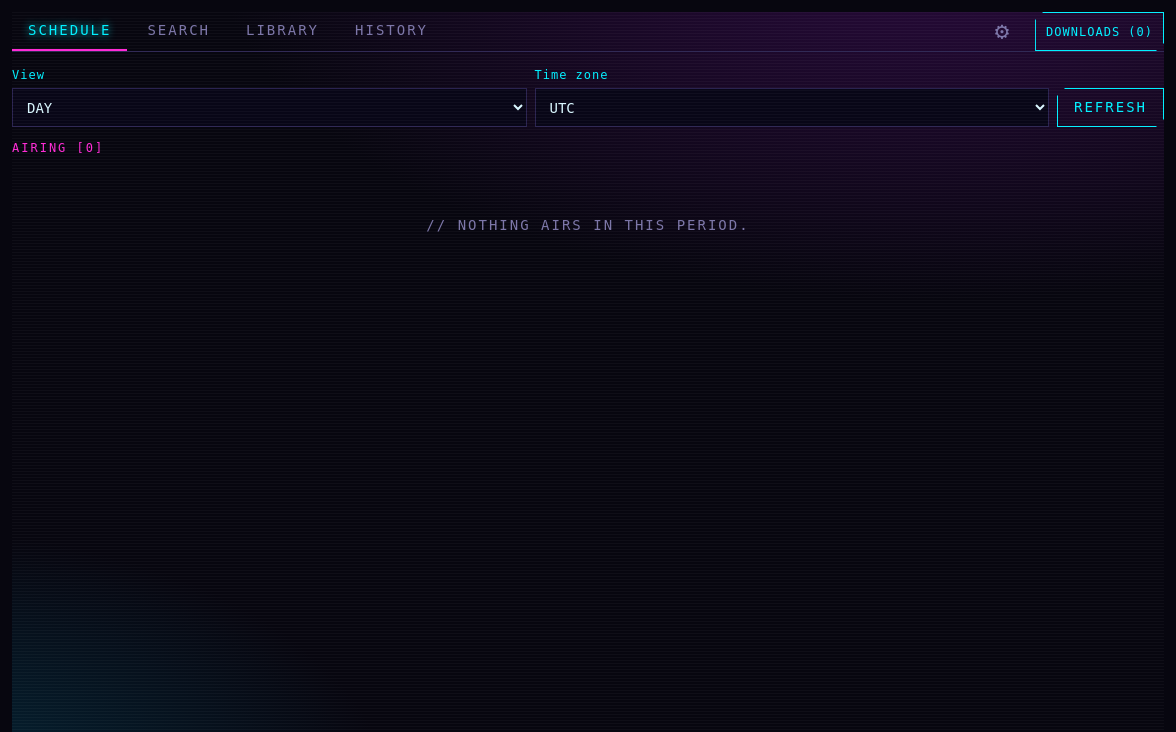
Scenario: AnimePanel › switches between the schedule and the search
Click the button "SEARCH" at (179, 32), box top-left (131, 12), bottom-right (226, 51)
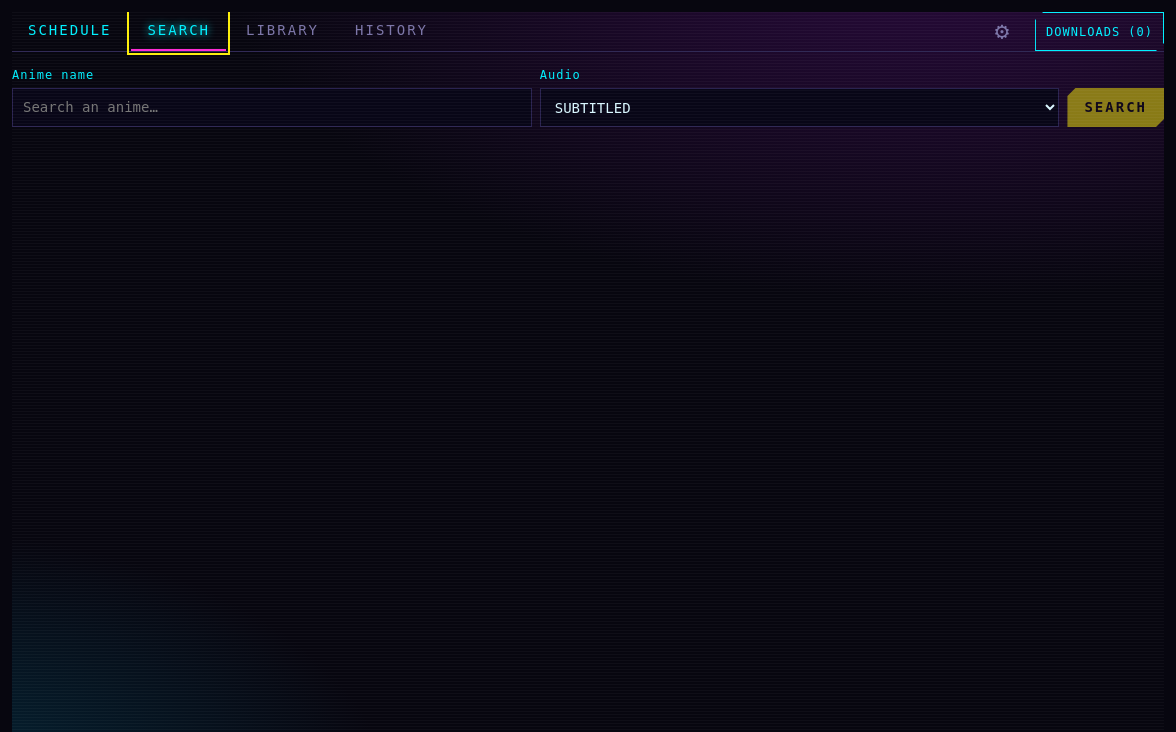
Expected: the field labelled "Anime name" is shown, top-left (12, 88), bottom-right (532, 127)
Click the button "SCHEDULE" at (70, 32), box top-left (12, 12), bottom-right (127, 51)
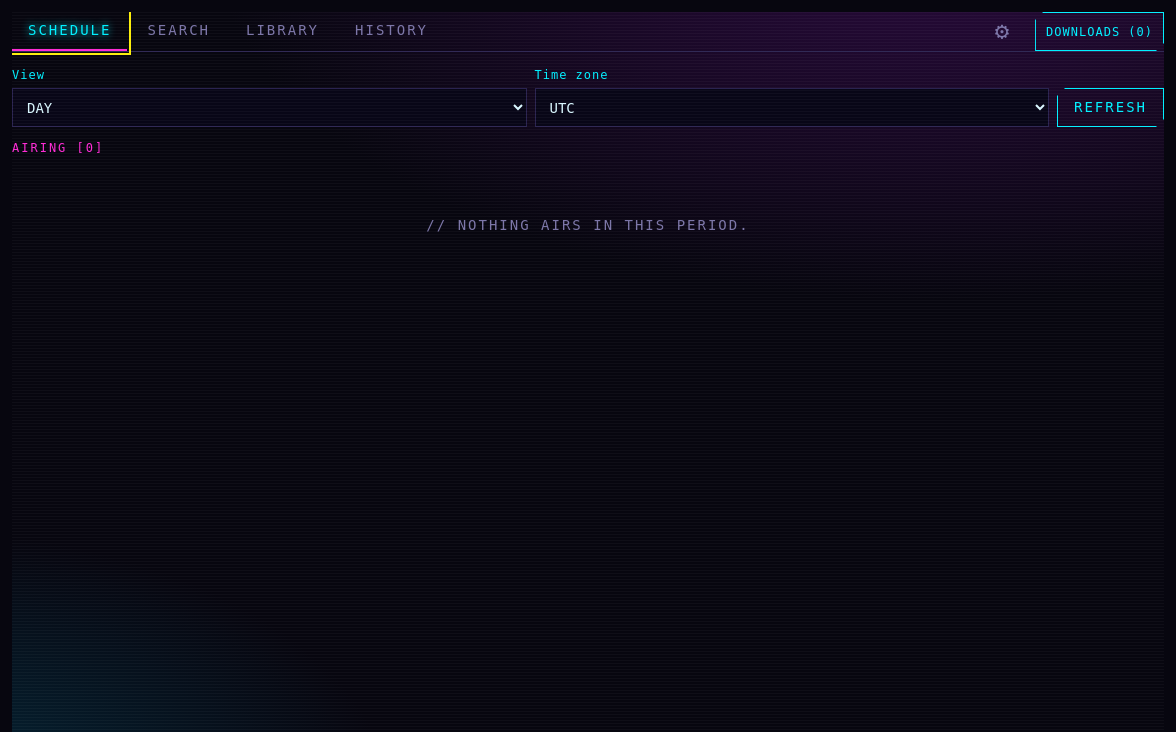
Expected: the element named "Anime schedule" is shown, top-left (12, 66), bottom-right (1164, 282)
Expected: the text labelled "Anime name" is gone
